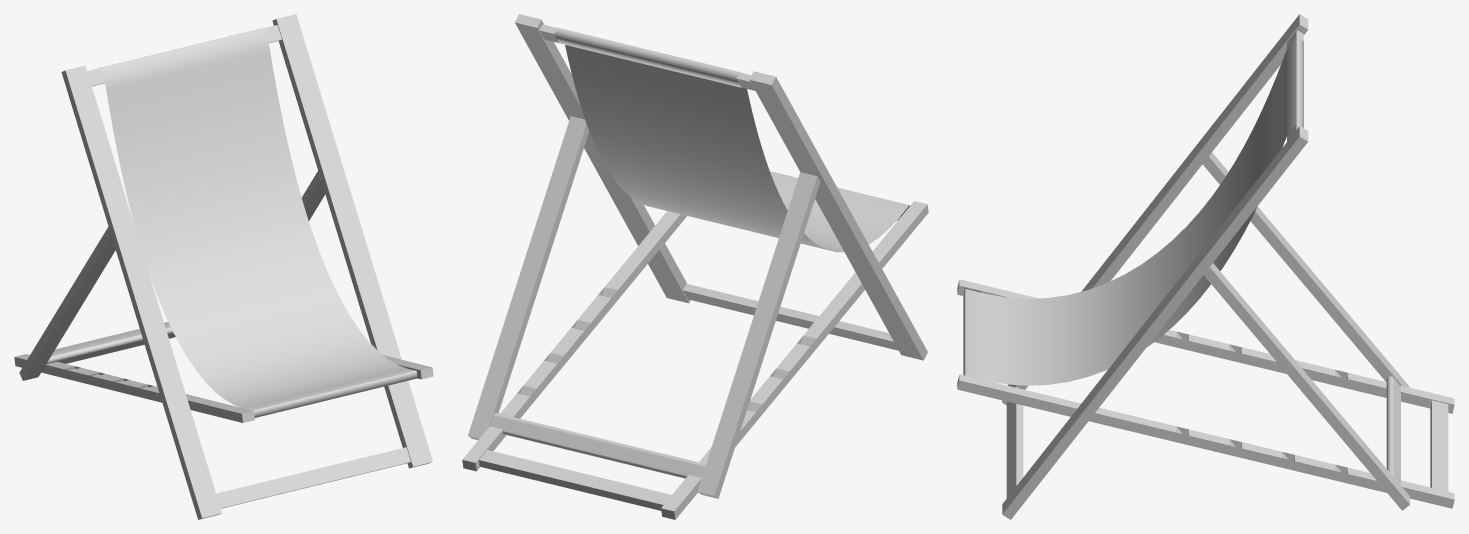
The model's file is Chair.fbx.
3 views of the same model, side by side, from view 1: azimuth 30°, elevation 25°; view 2: azimuth 150°, elevation 25°; view 3: azimuth 270°, elevation 25° (orthographic). The views are drawn at different scales.
Visible parts, largest first — view 1: Plane, Cube.001, Cube.006, Cube.004, Cube, Cylinder, Cube.005; view 2: Plane, Cube.006, Cube.001, Cube.004, Cylinder, Cube.005, Cube; view 3: Plane, Cube.001, Cube.004, Cube.006, Cube.005, Cube, Cylinder.
Part boxes in pixels (box(x1,y1,x2,y2)): Plane: box(99, 28, 417, 417); Cube.001: box(61, 14, 432, 519); Cube.006: box(19, 171, 325, 380); Cube.004: box(14, 354, 433, 422); Cube: box(216, 447, 410, 508); Cylinder: box(46, 327, 175, 363); Cube.005: box(51, 322, 170, 355); Plane: box(554, 27, 909, 252); Cube.006: box(468, 116, 820, 498); Cube.001: box(515, 14, 927, 360); Cube.004: box(462, 201, 928, 519); Cylinder: box(490, 413, 705, 478); Cube.005: box(479, 450, 671, 510); Cube: box(683, 283, 898, 350); Plane: box(963, 37, 1303, 385); Cube.001: box(1002, 14, 1308, 519); Cube.004: box(957, 279, 1454, 508); Cube.006: box(1202, 152, 1409, 510); Cube.005: box(1430, 400, 1448, 491); Cube: box(1006, 387, 1023, 497); Cylinder: box(1386, 376, 1400, 484).
Size of the model in its own units: 78.55 by 115 by 135.
